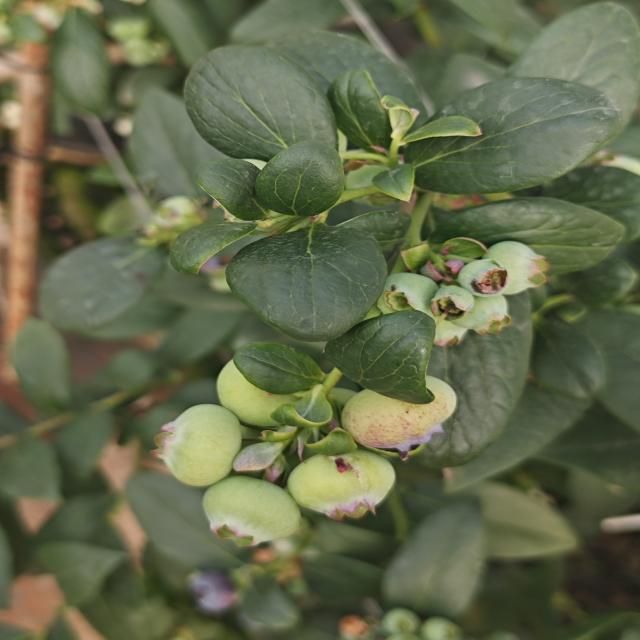ripe: (176, 558, 246, 610)
